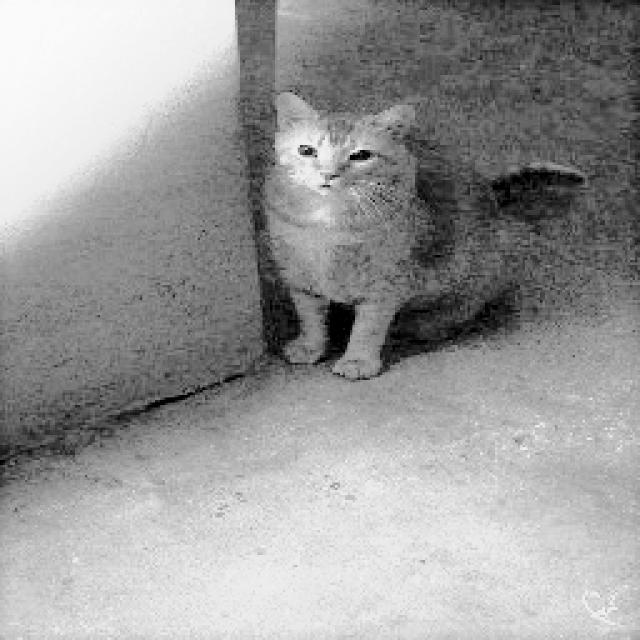cat: (263, 88, 586, 384)
